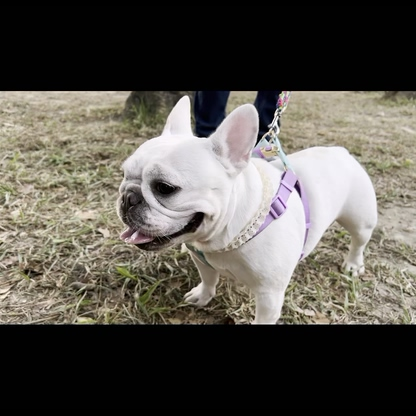bulldog: (112, 93, 382, 324)
